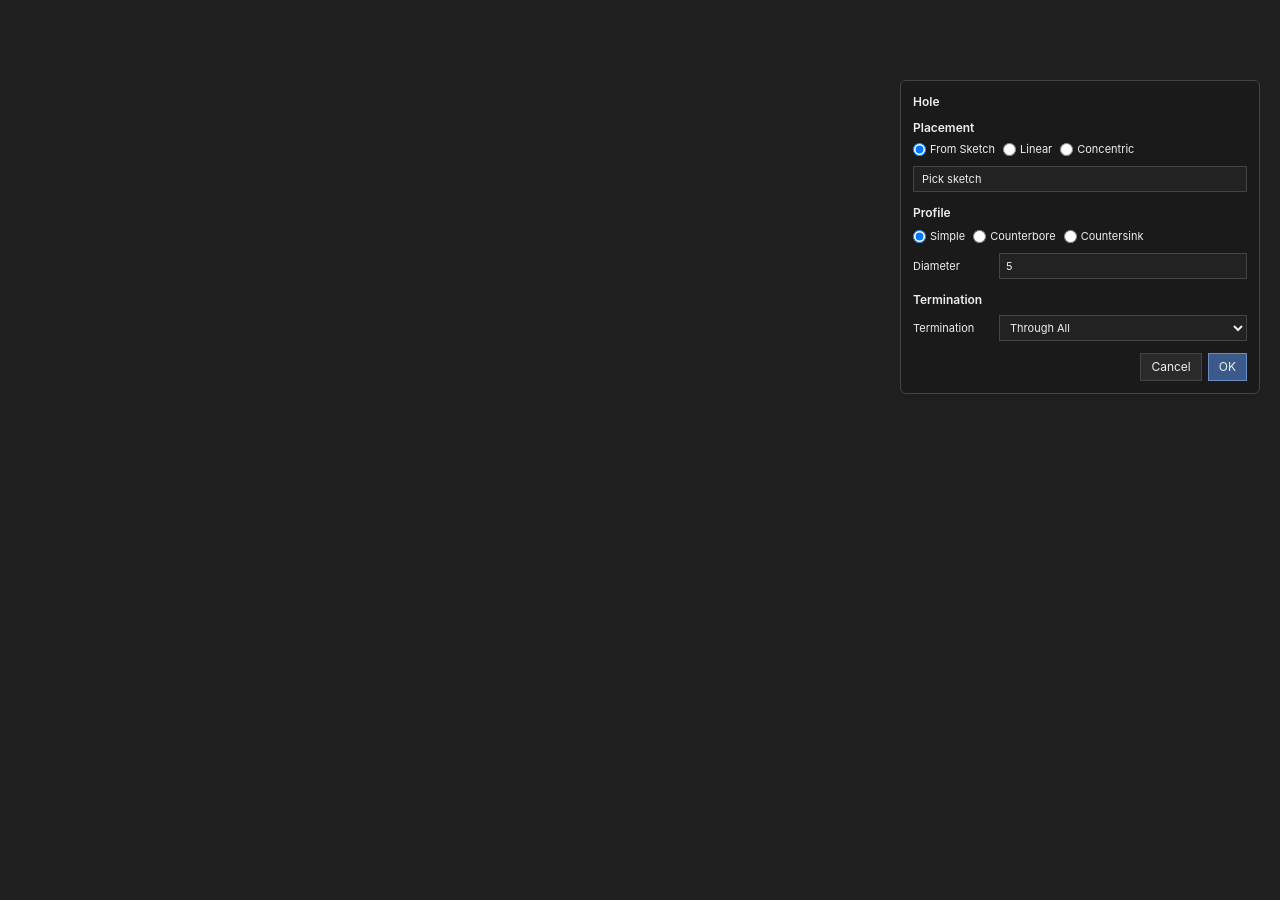
HoleDialog › CSK profile reveals cskDiameter and cskAngle (default 82°)
Click the radio button labelled "Countersink" at coordinates (1070, 236), box [1064,230,1077,243]
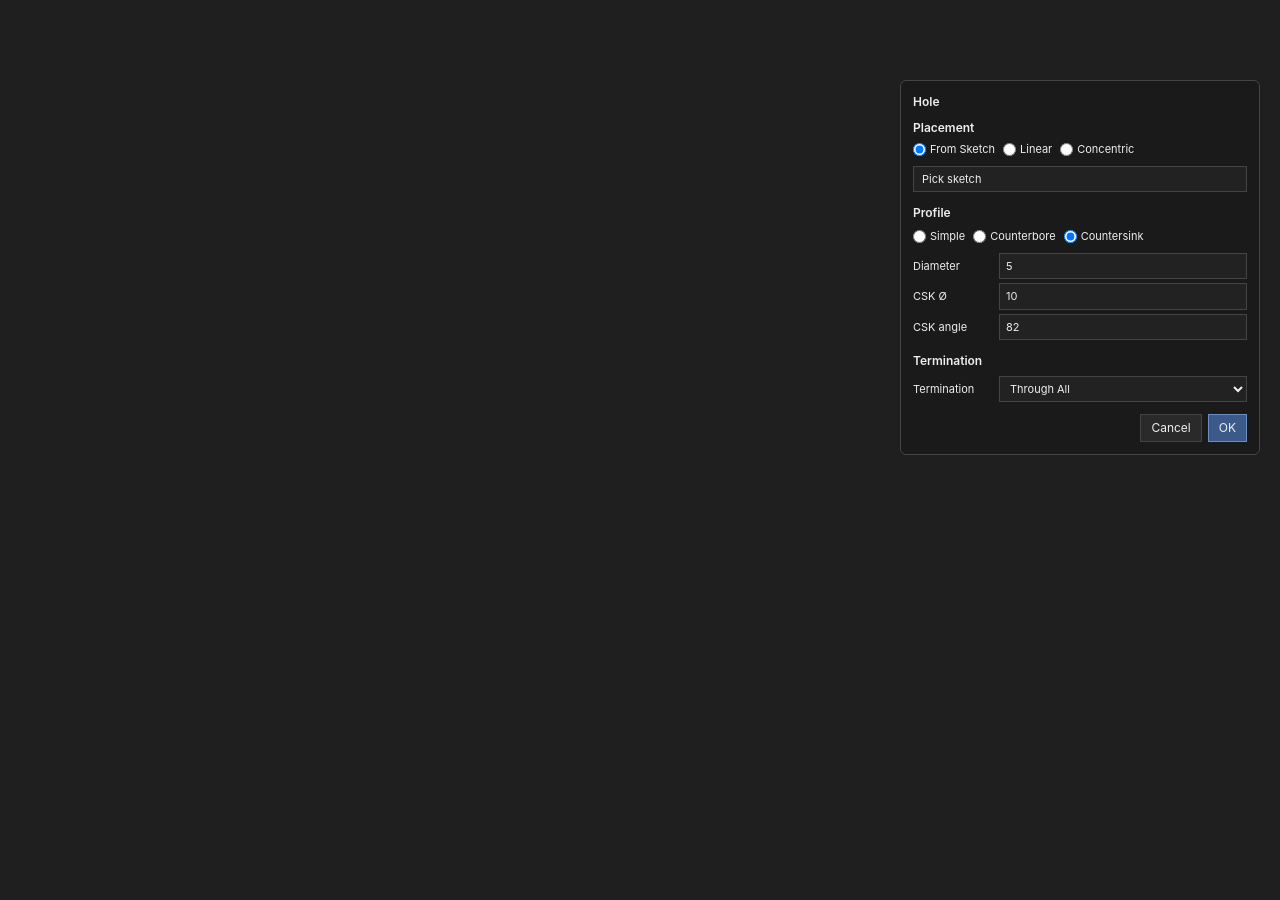
Check: the field labelled "CSK Ø" is shown, box [999,283,1247,310]
Check: the field labelled "CSK angle" holds "82", box [999,314,1247,340]
